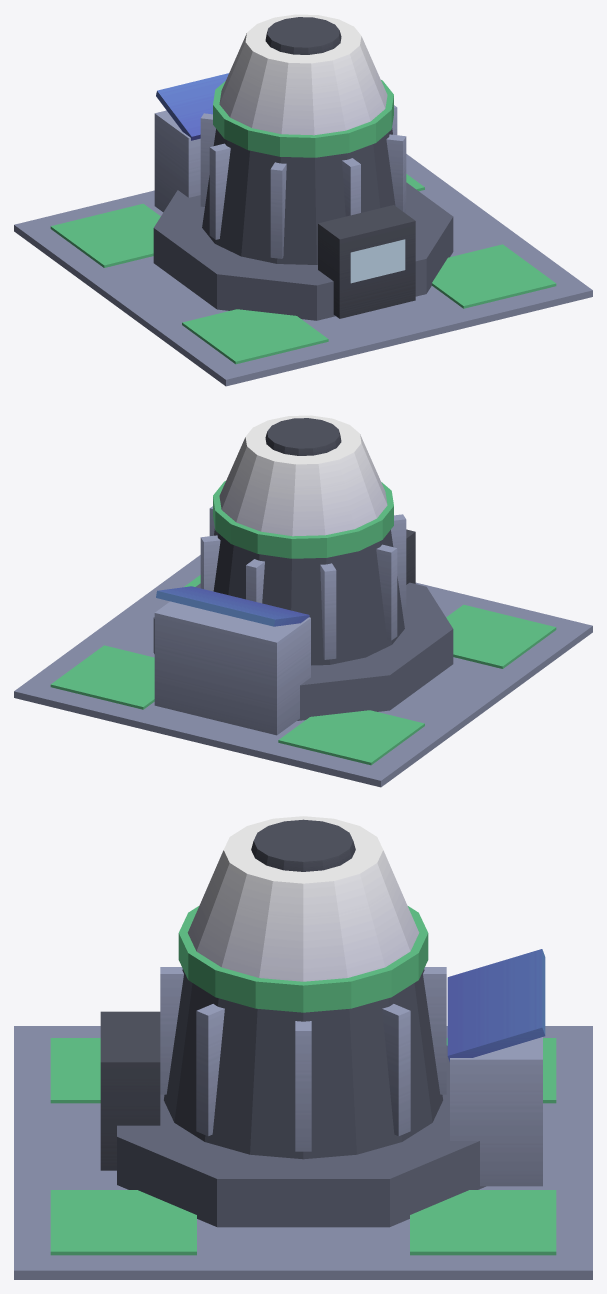
File: wind_vawt_base.glb
The picture shows the model from 3 angles, top to bottom: view 1: azimuth 30°, elevation 25°; view 2: azimuth 150°, elevation 25°; view 3: azimuth 270°, elevation 25°; orthographic projection. The views are drawn at different scales.
Visible parts, largest first — view 1: Base; view 2: Base; view 3: Base.
Part boxes in pixels (x1,y1,x2,y2): Base: [14, 14, 592, 386]; Base: [14, 415, 592, 787]; Base: [14, 816, 592, 1279].
Bounding box in the file's own units: 1.74 × 1.05 × 1.74.
Materials: 1 (1 with a texture image).
